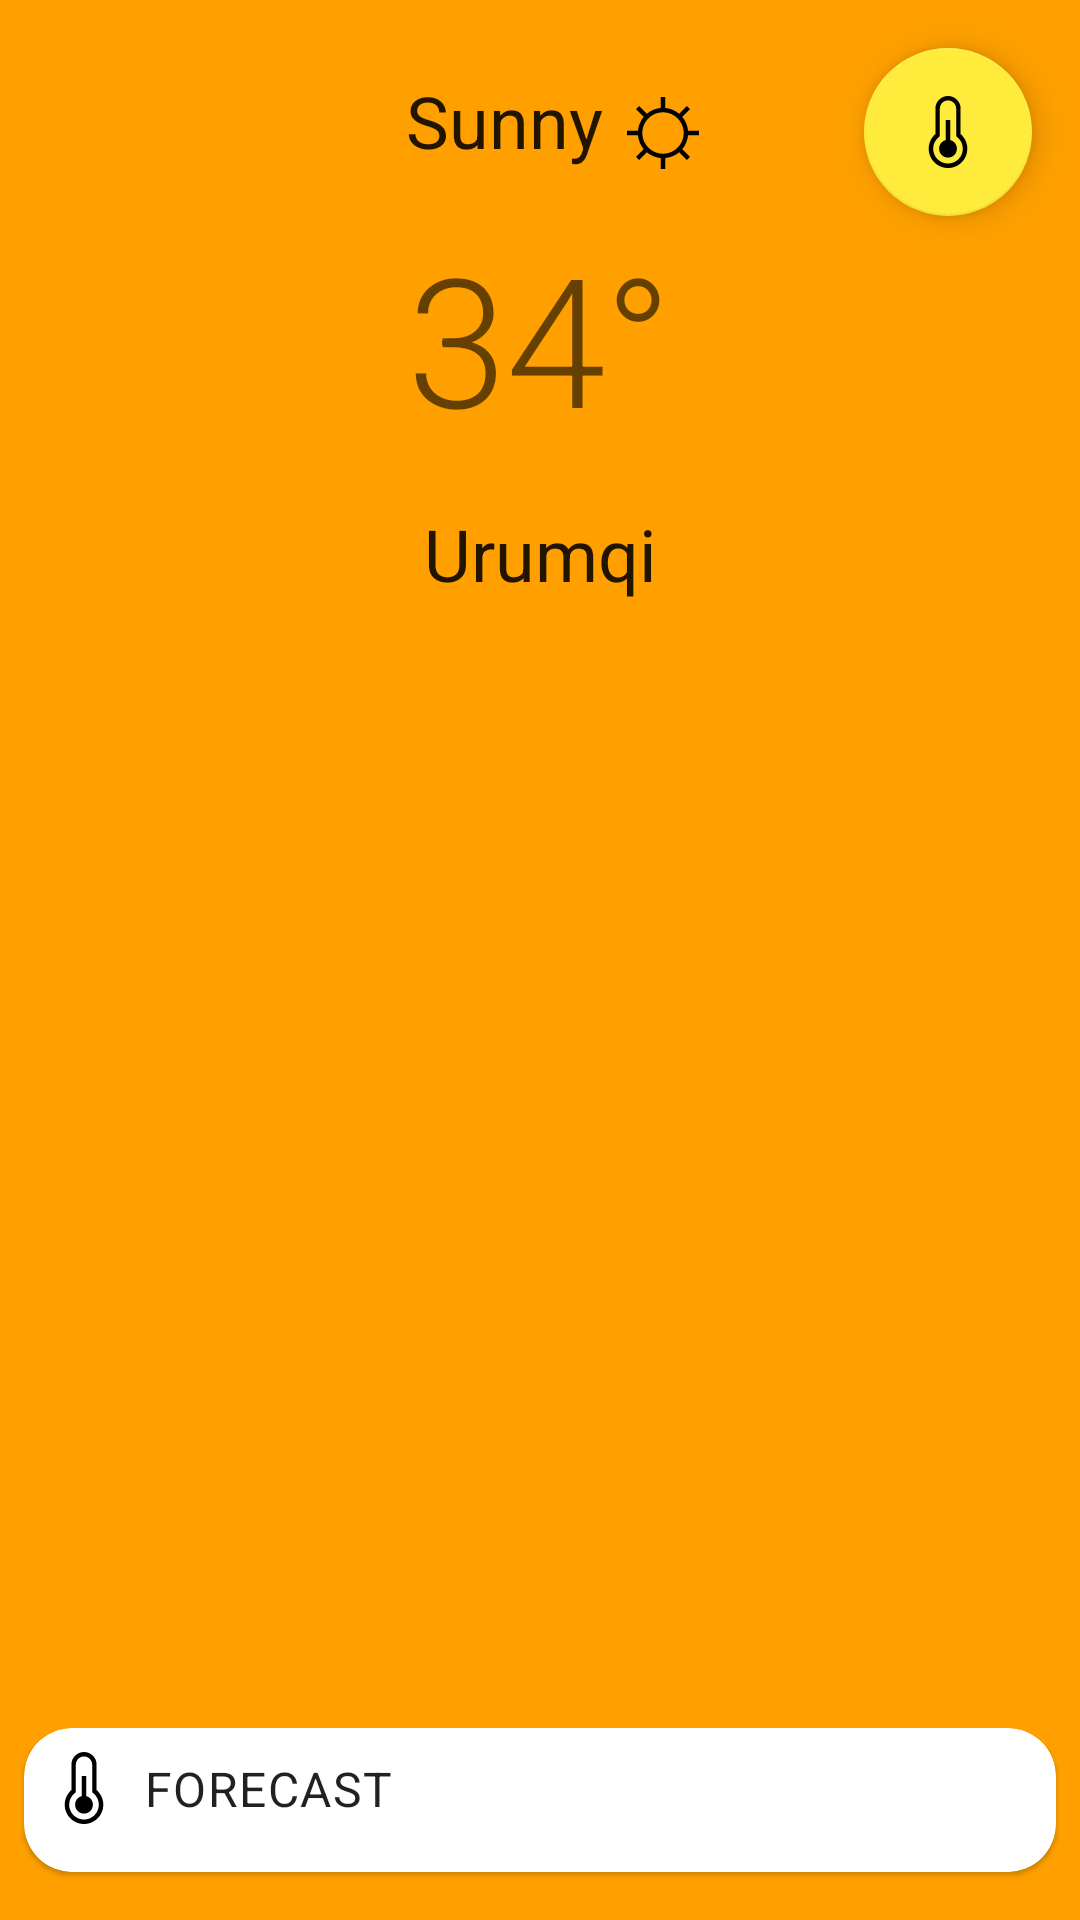

Named icons in this screenshot (1080×1920) and their bounding boxes, [x1, y1, x2, y2]:
thermometer mid: [864, 48, 1032, 216], [64, 1752, 104, 1824]
